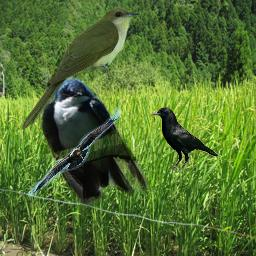Crow: (26, 107, 122, 197), (150, 107, 218, 171)
Cuckoo: (21, 7, 141, 132)
Swallow: (38, 76, 151, 212)
